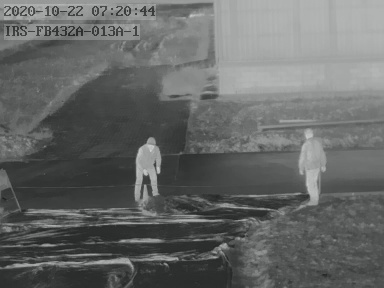person: (295, 128, 327, 206), (135, 138, 163, 200)
